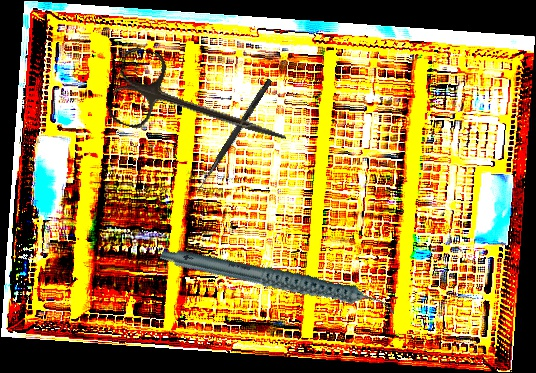Handpiece: (159, 202, 398, 362)
Hook Surgical: (194, 77, 273, 196)
Iris Scissors: (105, 44, 299, 172)
